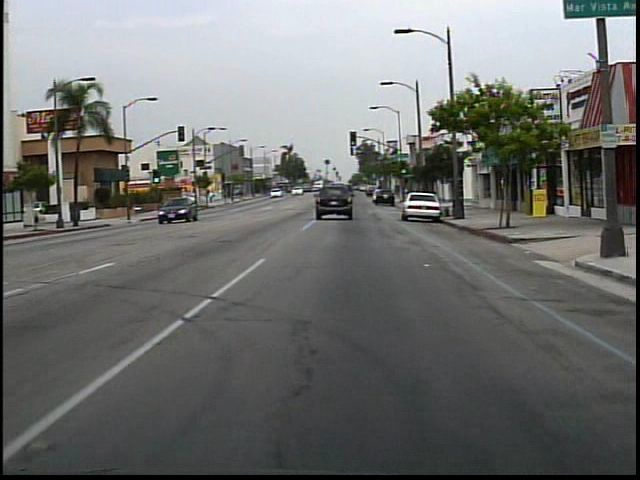person: (207, 187, 216, 207)
